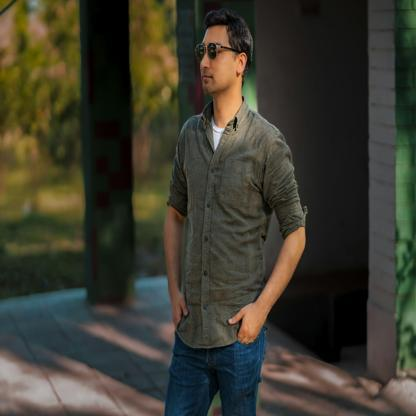person: (159, 9, 312, 416)
